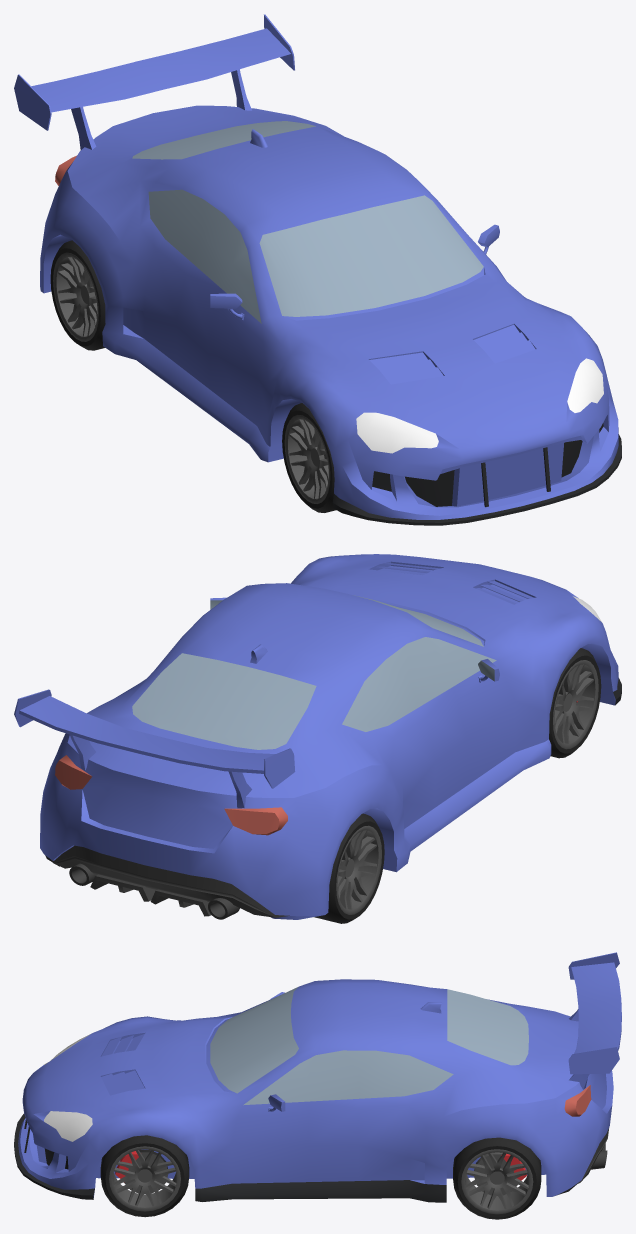
Rendered from PlaceHoldToyota_gt86 (1).fbx.
The picture shows the model from 3 angles, top to bottom: view 1: azimuth 30°, elevation 25°; view 2: azimuth 150°, elevation 25°; view 3: azimuth 270°, elevation 25°; orthographic projection. The views are drawn at different scales.
Visible parts, largest first — view 1: BaseCar, WheelRR, WheelRF; view 2: BaseCar, WheelRR, WheelRF; view 3: BaseCar, WheelLR, WheelLF.
Boxes of the visible parts, <box> form: BaseCar: <box>14,14,621,525</box>; WheelRR: <box>50,240,105,350</box>; WheelRF: <box>282,403,336,512</box>; BaseCar: <box>14,554,621,919</box>; WheelRR: <box>314,813,384,923</box>; WheelRF: <box>549,648,601,758</box>; BaseCar: <box>14,952,621,1202</box>; WheelLR: <box>453,1137,541,1219</box>; WheelLF: <box>100,1135,189,1217</box>.
Bounding box in the file's own units: 191 × 132 × 433.
